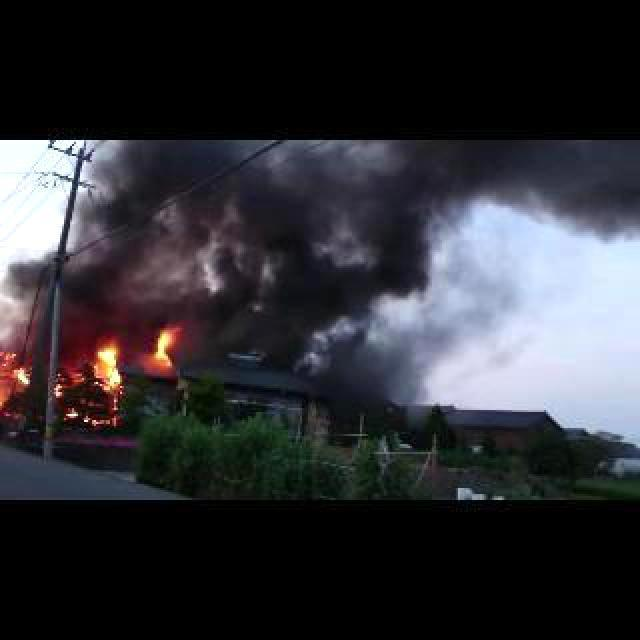Fire: (82, 339, 131, 427), (147, 322, 192, 369)
Smoke: (9, 139, 559, 335), (314, 304, 464, 426)
